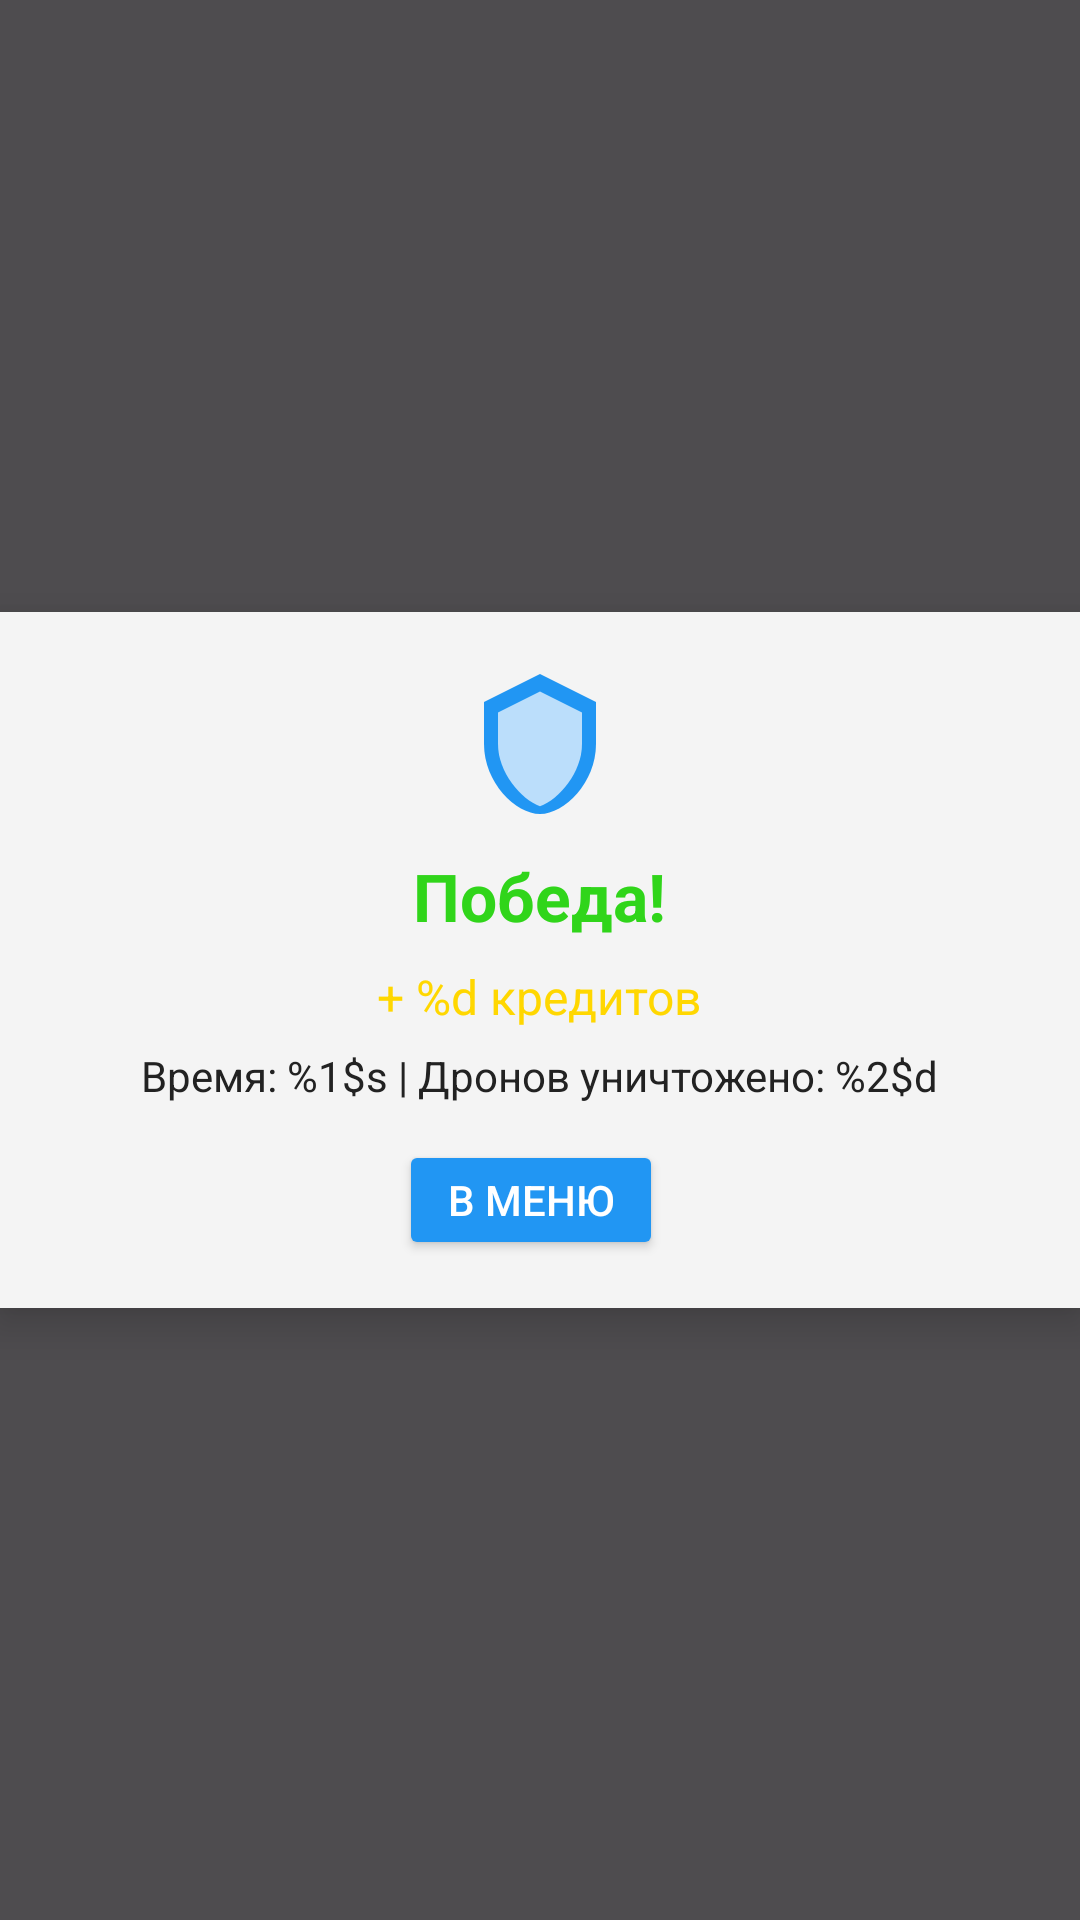

Where to tap for icons on this 1080*1920 app screen, as (x,y):
shield: (540,744)
